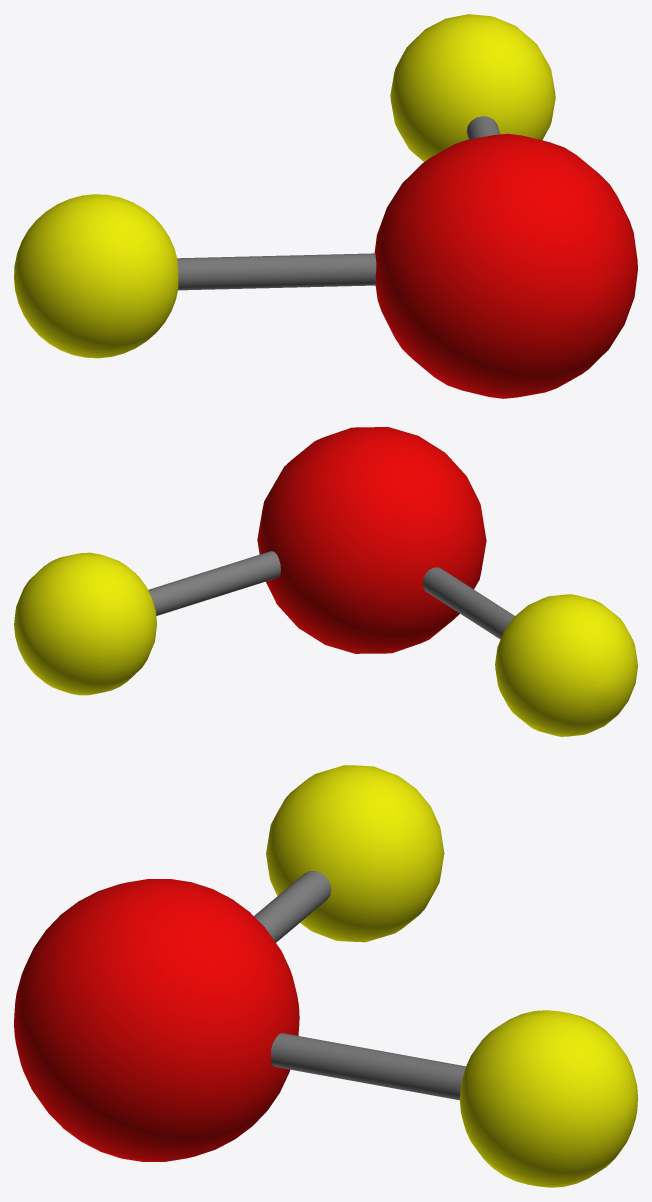
3 views of the same model, one above another, from view 1: azimuth 30°, elevation 25°; view 2: azimuth 150°, elevation 25°; view 3: azimuth 270°, elevation 25° (orthographic). The views are drawn at different scales.
Parts seen in each view (by area): view 1: H2O; view 2: H2O; view 3: H2O.
Boxes of the visible parts, x1=… form: H2O: x1=14, y1=14, x2=637, y2=398; H2O: x1=14, y1=427, x2=637, y2=736; H2O: x1=14, y1=765, x2=637, y2=1187.
Size of the model in its own units: 7.09 by 2.67 by 5.83.
